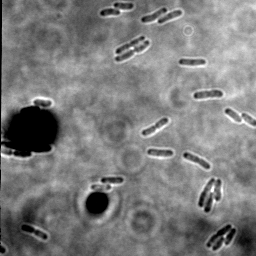microcolony: (112, 34, 152, 66), (195, 175, 224, 213), (203, 221, 237, 251)
rod: (138, 113, 171, 138), (181, 149, 211, 172), (20, 222, 49, 241), (139, 5, 167, 23), (156, 7, 183, 25), (221, 105, 244, 124), (191, 88, 224, 101), (145, 145, 174, 159), (178, 55, 207, 67), (31, 95, 54, 110), (97, 6, 121, 19), (100, 174, 124, 186), (87, 182, 113, 193), (111, 1, 135, 12)
